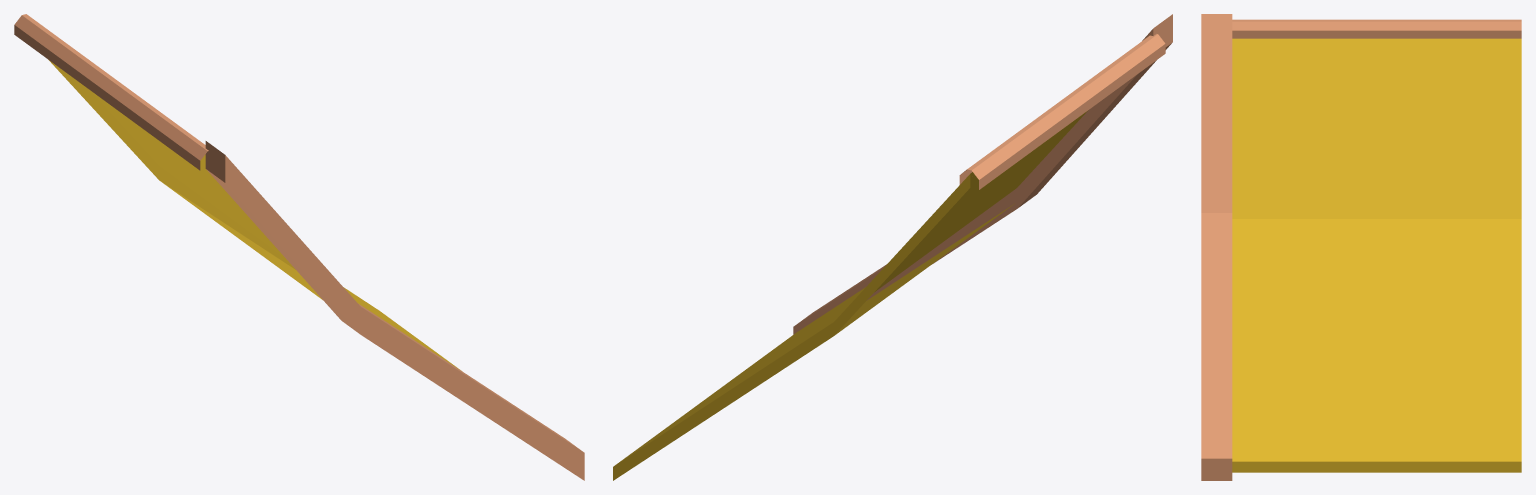
Rendered from Roof_small.fbx.
The picture shows the model from 3 angles, left to right: view 1: azimuth 30°, elevation 25°; view 2: azimuth 150°, elevation 25°; view 3: azimuth 270°, elevation 25°; orthographic projection. The views are drawn at different scales.
Parts seen in each view (by area): view 1: Cube.147, Cube.146, Cube.148; view 2: Cube.146, Cube.147, Cube.148; view 3: Cube.146, Cube.147, Cube.148.
Boxes of the visible parts, x1,y1,x2,y2 form: Cube.147: [205, 141, 584, 480]; Cube.146: [48, 59, 461, 370]; Cube.148: [14, 14, 208, 170]; Cube.146: [613, 110, 1088, 480]; Cube.147: [793, 14, 1172, 334]; Cube.148: [959, 34, 1165, 189]; Cube.146: [1232, 38, 1521, 472]; Cube.147: [1201, 14, 1232, 480]; Cube.148: [1232, 19, 1521, 38].
Size of the model in its own units: 515 by 553 by 490.
